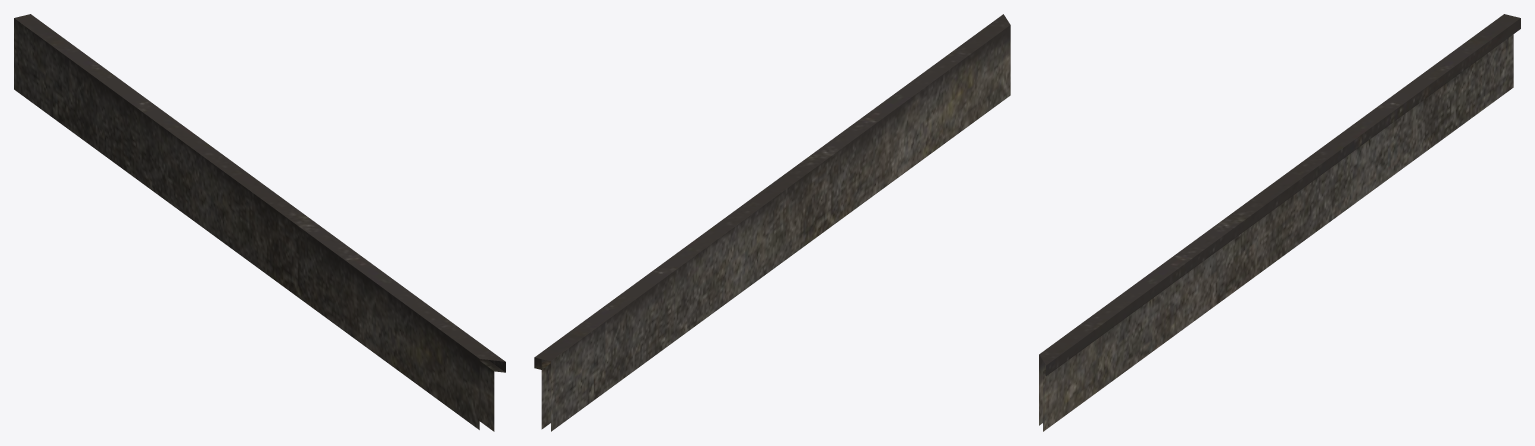
Rendered from Roof_SideWall_02.FBX.
3 views of the same model, side by side, from view 1: azimuth 30°, elevation 25°; view 2: azimuth 150°, elevation 25°; view 3: azimuth 330°, elevation 25° (orthographic).
Visible parts, largest first — view 1: Roof_SideWall_02; view 2: Roof_SideWall_02; view 3: Roof_SideWall_02.
Part boxes in pixels (x1,y1,x2,y2): Roof_SideWall_02: [14, 14, 505, 431]; Roof_SideWall_02: [534, 14, 1010, 431]; Roof_SideWall_02: [1039, 14, 1520, 431].
Bounding box in the file's own units: 22.66 × 92.93 × 1121.
